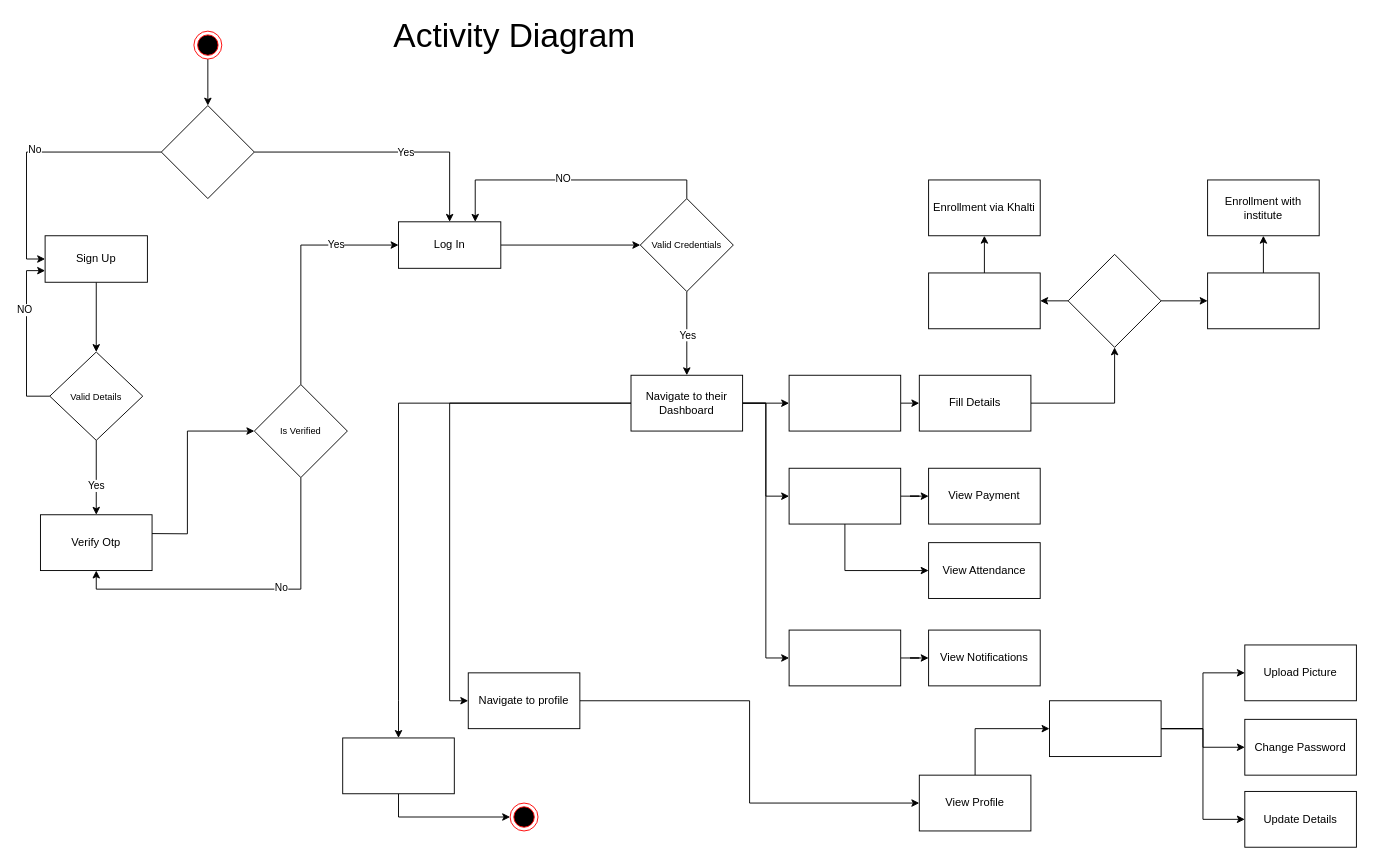
Image size: 1373x864. Some labels were removed from this diagram. Here are the shapes that lost their labels. From the top down, the centre of each, then its label:
the point at 207,152: Already Have an Account
the point at 984,300: Khalti
the point at 1114,300: Select Payment
the point at 1263,300: Institute
the point at 844,402: Course Enrollment
the point at 844,495: My Courses
the point at 844,657: Notifications
the point at 1105,728: Edit Profile
the point at 398,765: Log Out
